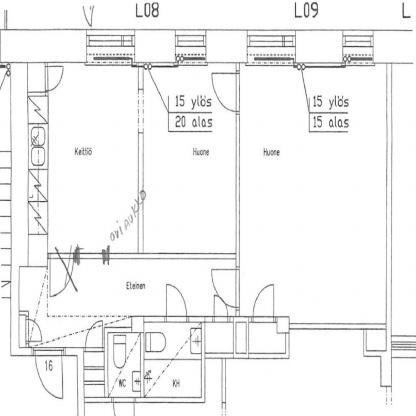door: (34, 346, 66, 404), (211, 69, 243, 117), (210, 268, 240, 309), (164, 282, 189, 328), (252, 279, 275, 326), (50, 254, 75, 294), (18, 312, 45, 345), (82, 322, 102, 350), (44, 64, 64, 91), (212, 294, 230, 323)
window: (248, 30, 294, 65), (86, 29, 134, 62), (174, 28, 207, 64), (343, 31, 373, 64), (391, 338, 416, 358)
zone: (240, 62, 386, 322), (10, 63, 134, 248), (18, 258, 235, 357), (206, 321, 393, 416), (145, 63, 236, 252), (393, 62, 416, 336), (144, 323, 198, 396)
